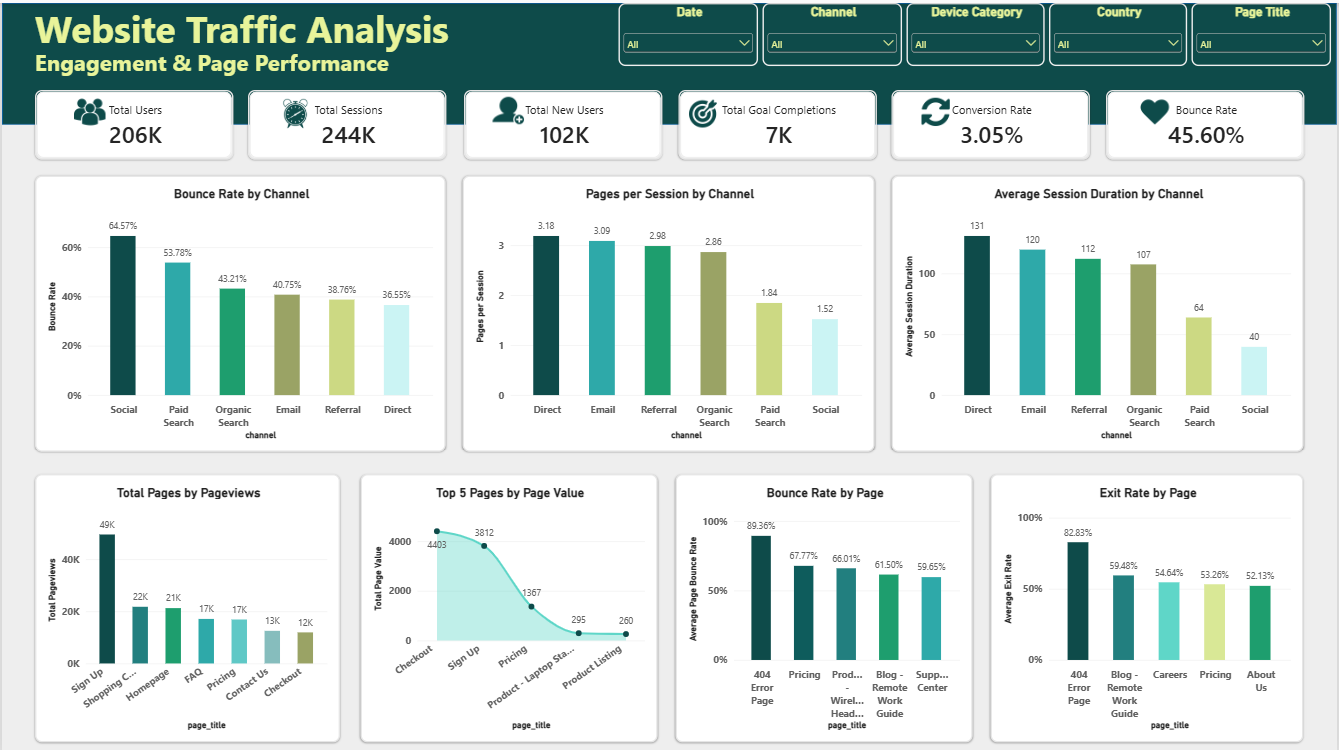

The dashboard page shown, as its layout file describes it:
{"tool":"powerbi","page":{"name":"Engagement & Page Performance","canvas":[1920,1080],"ordinal":1},"visuals":[{"type":"shape","box":[0,0,1919.3,174.9],"z":0},{"type":"cardVisual","fields":{"Data":["DAX Measures.Total Users"]},"box":[47.5,125.1,285,100],"z":1000},{"type":"cardVisual","fields":{"Data":["DAX Measures.Total Goal Completions"]},"box":[972,124.9,285,100],"z":2000},{"type":"cardVisual","fields":{"Data":["DAX Measures.Conversion Rate"]},"box":[1278.7,124.9,285,100],"z":3000},{"type":"cardVisual","fields":{"Data":["DAX Measures.Bounce Rate"]},"box":[1587.7,125.1,285,100],"z":4000},{"type":"cardVisual","fields":{"Data":["DAX Measures.Total Sessions"]},"box":[354,125.1,285,100],"z":5000},{"type":"cardVisual","fields":{"Data":["DAX Measures.Total New Users"]},"box":[664,125.1,285,100],"z":6000},{"type":"textbox","box":[47.7,0,876.7,149.9],"z":7000},{"type":"slicer","title":"Date","fields":{"Values":["Date_Table.Date"]},"box":[886.6,0,200.6,90.6],"z":8000},{"type":"slicer","title":"Channel","fields":{"Values":["Daily_Traffic.channel"]},"box":[1093.7,0,200.6,90.6],"z":9000},{"type":"slicer","title":"Device Category","fields":{"Values":["Daily_Traffic.device_category"]},"box":[1300.8,0,198.5,90.6],"z":10000},{"type":"slicer","title":"Country","fields":{"Values":["Daily_Traffic.country"]},"box":[1505.7,0,198.5,90.6],"z":11000},{"type":"slicer","title":"Page Title","fields":{"Values":["Page_Performance.page_title"]},"box":[1710.6,0,200.6,90.6],"z":12000},{"type":"image","box":[104.5,129.5,45.4,54.5],"z":13000},{"type":"image","box":[397.5,129.5,50,59.1],"z":14000},{"type":"image","box":[706.4,127.2,45.4,54.5],"z":15000},{"type":"image","box":[988,134,40,50],"z":16000},{"type":"image","box":[1321.9,131.7,40.9,50],"z":17000},{"type":"image","box":[1635.3,129.5,45.4,54.5],"z":18000},{"type":"columnChart","title":"Total Pages by Pageviews","fields":{"Category":["Page_Performance.page_title"],"Y":["DAX Measures.Total Pageviews"]},"box":[47.7,676.8,438.4,386.1],"z":19000},{"type":"areaChart","title":"Top 5 Pages by Page Value","fields":{"Category":["Page_Performance.page_title"],"Y":["DAX Measures.Total Page Value"]},"box":[515.6,676.8,427,386.1],"z":20000},{"type":"columnChart","title":" Bounce Rate by Page","fields":{"Category":["Page_Performance.page_title"],"Y":["DAX Measures.Average Page Bounce Rate"]},"box":[967.6,676.8,427,386.1],"z":21000},{"type":"columnChart","title":"Exit Rate by Page","fields":{"Category":["Page_Performance.page_title"],"Y":["DAX Measures.Average Exit Rate"]},"box":[1421.8,676.8,449.7,386.1],"z":22000},{"type":"columnChart","title":"Bounce Rate by Channel","fields":{"Category":["Daily_Traffic.channel"],"Y":["DAX Measures.Bounce Rate"]},"box":[47.7,247.6,590.5,397.5],"z":23000},{"type":"clusteredColumnChart","title":"Pages per Session by Channel","fields":{"Category":["Daily_Traffic.channel"],"Y":["DAX Measures.Pages per Session"]},"box":[663.2,247.6,592.8,397.5],"z":24000},{"type":"columnChart","title":"Average Session Duration by Channel","fields":{"Category":["Daily_Traffic.channel"],"Y":["DAX Measures.Average Session Duration"]},"box":[1278.7,247.6,592.8,397.5],"z":25000}]}

Visuals, with their boxes in screenshot pixels (x1, y1, x2, y2), scaled from the page's 1920x1080 canvas onto the 1339x750 screenshot:
shape: bbox=[0, 0, 1338, 121]
cardVisual - DAX Measures.Total Users: bbox=[33, 87, 232, 156]
cardVisual - DAX Measures.Total Goal Completions: bbox=[678, 87, 877, 156]
cardVisual - DAX Measures.Conversion Rate: bbox=[892, 87, 1091, 156]
cardVisual - DAX Measures.Bounce Rate: bbox=[1107, 87, 1306, 156]
cardVisual - DAX Measures.Total Sessions: bbox=[247, 87, 446, 156]
cardVisual - DAX Measures.Total New Users: bbox=[463, 87, 662, 156]
textbox: bbox=[33, 0, 645, 104]
"Date" slicer: bbox=[618, 0, 758, 63]
"Channel" slicer: bbox=[763, 0, 903, 63]
"Device Category" slicer: bbox=[907, 0, 1046, 63]
"Country" slicer: bbox=[1050, 0, 1189, 63]
"Page Title" slicer: bbox=[1193, 0, 1333, 63]
image: bbox=[73, 90, 105, 128]
image: bbox=[277, 90, 312, 131]
image: bbox=[493, 88, 524, 126]
image: bbox=[689, 93, 717, 128]
image: bbox=[922, 91, 950, 126]
image: bbox=[1140, 90, 1172, 128]
"Total Pages by Pageviews" columnChart: bbox=[33, 470, 339, 738]
"Top 5 Pages by Page Value" areaChart: bbox=[360, 470, 657, 738]
" Bounce Rate by Page" columnChart: bbox=[675, 470, 973, 738]
"Exit Rate by Page" columnChart: bbox=[992, 470, 1305, 738]
"Bounce Rate by Channel" columnChart: bbox=[33, 172, 445, 448]
"Pages per Session by Channel" clusteredColumnChart: bbox=[463, 172, 876, 448]
"Average Session Duration by Channel" columnChart: bbox=[892, 172, 1305, 448]
